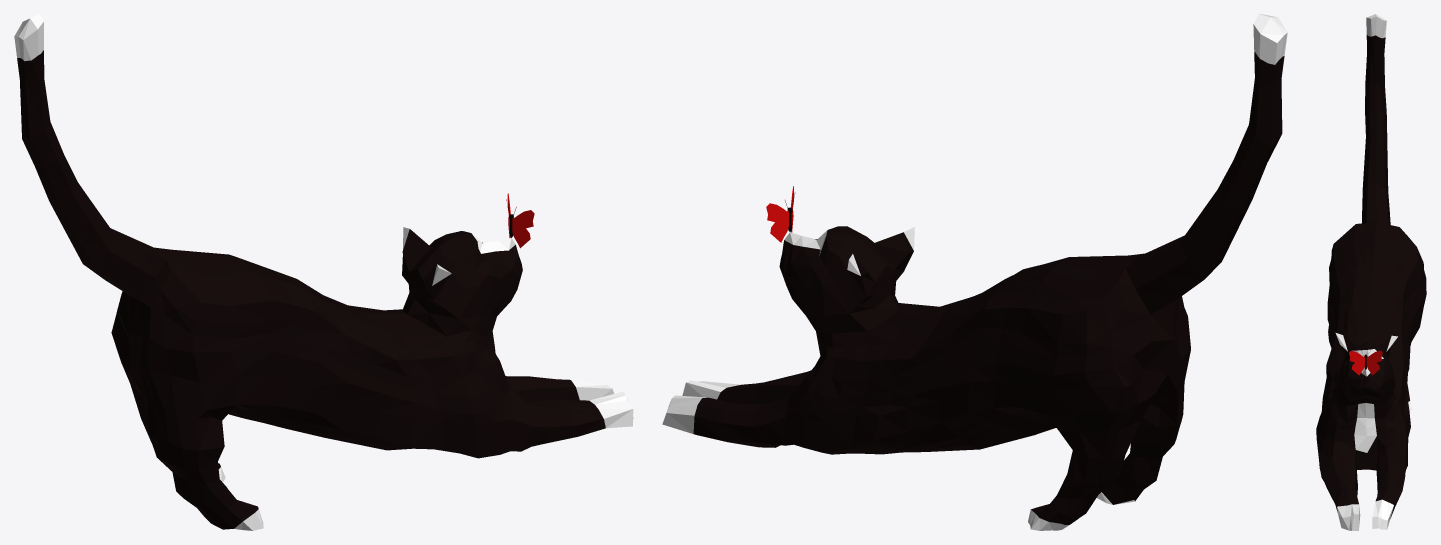
Rendered from cat.glb.
3 views of the same model, side by side, from view 1: azimuth 30°, elevation 25°; view 2: azimuth 150°, elevation 25°; view 3: azimuth 270°, elevation 25° (orthographic). The views are drawn at different scales.
Visible parts, largest first — view 1: Cube, Cube.001; view 2: Cube, Cube.001; view 3: Cube, Cube.001.
Boxes of the visible parts, box(x1,y1,x2,y2) form: Cube: box(14, 14, 633, 530); Cube.001: box(506, 193, 534, 248); Cube: box(662, 14, 1287, 530); Cube.001: box(766, 186, 795, 242); Cube: box(1316, 14, 1426, 530); Cube.001: box(1349, 348, 1382, 375).
Bounding box in the file's own units: 5.87 × 5.02 × 1.47.
